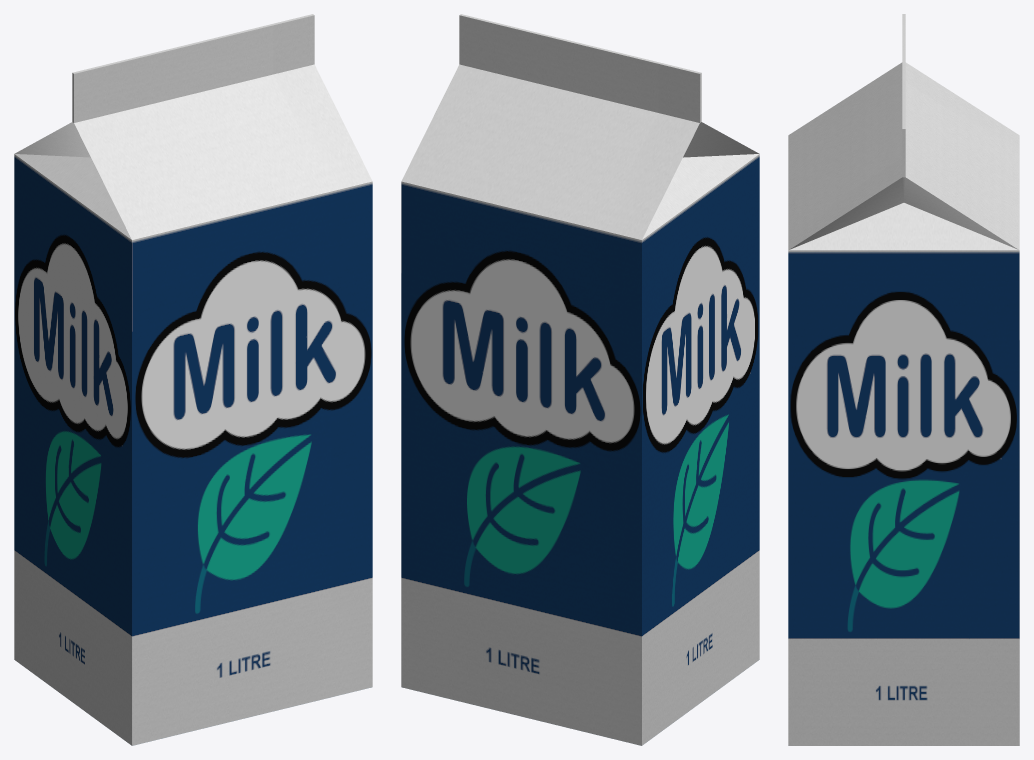
The model's file is milk_box_1.FBX.
The picture shows the model from 3 angles, left to right: view 1: azimuth 30°, elevation 25°; view 2: azimuth 150°, elevation 25°; view 3: azimuth 270°, elevation 25°; orthographic projection. The views are drawn at different scales.
Parts seen in each view (by area): view 1: milk_box_1; view 2: milk_box_1; view 3: milk_box_1.
Part boxes in pixels (x1,y1,x2,y2): milk_box_1: [14, 14, 372, 745]; milk_box_1: [401, 14, 759, 745]; milk_box_1: [788, 14, 1019, 745].
Size of the model in its own units: 3.15 by 2.67 by 7.87.
